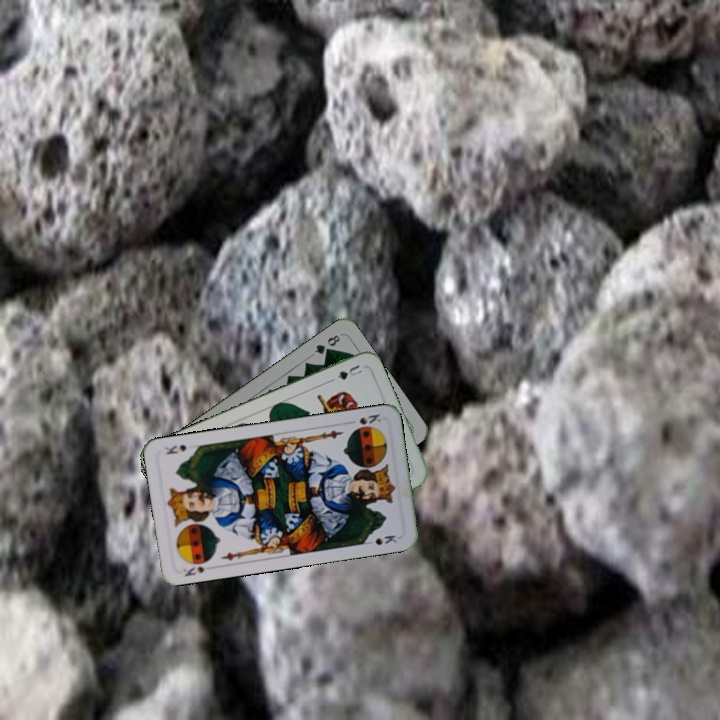G8: (310, 331, 343, 357)
GU: (333, 360, 365, 382)
SK: (344, 410, 384, 427), (179, 562, 208, 579)
